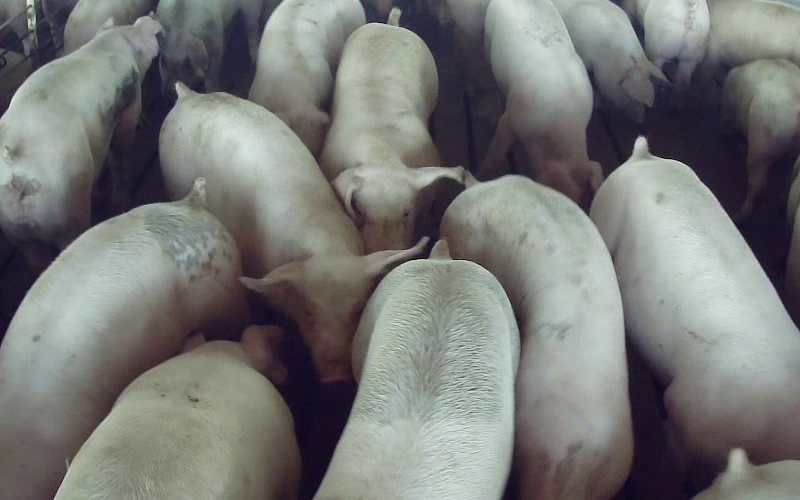pig: (159, 84, 426, 380), (0, 179, 245, 499), (591, 137, 799, 462), (440, 175, 632, 499), (315, 240, 519, 499), (56, 326, 300, 499), (0, 16, 160, 269), (320, 9, 462, 252), (482, 0, 602, 206), (553, 0, 665, 121), (722, 59, 799, 218), (156, 0, 261, 92), (701, 0, 799, 76), (628, 0, 709, 85)
